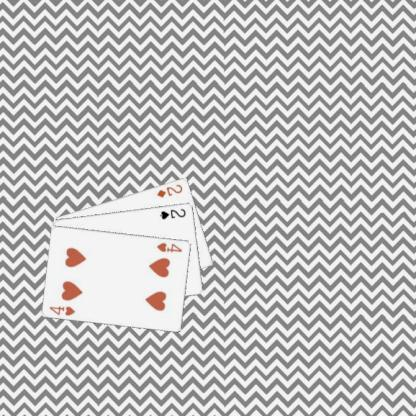2D: (154, 181, 184, 199)
2S: (157, 206, 188, 220)
4H: (48, 303, 76, 317), (154, 240, 183, 253)
